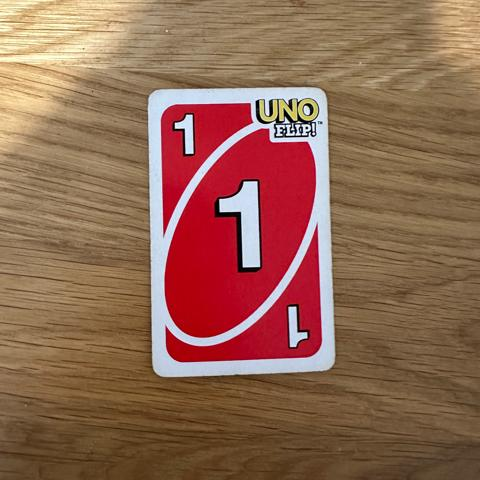lred-1: (159, 100, 211, 169)
